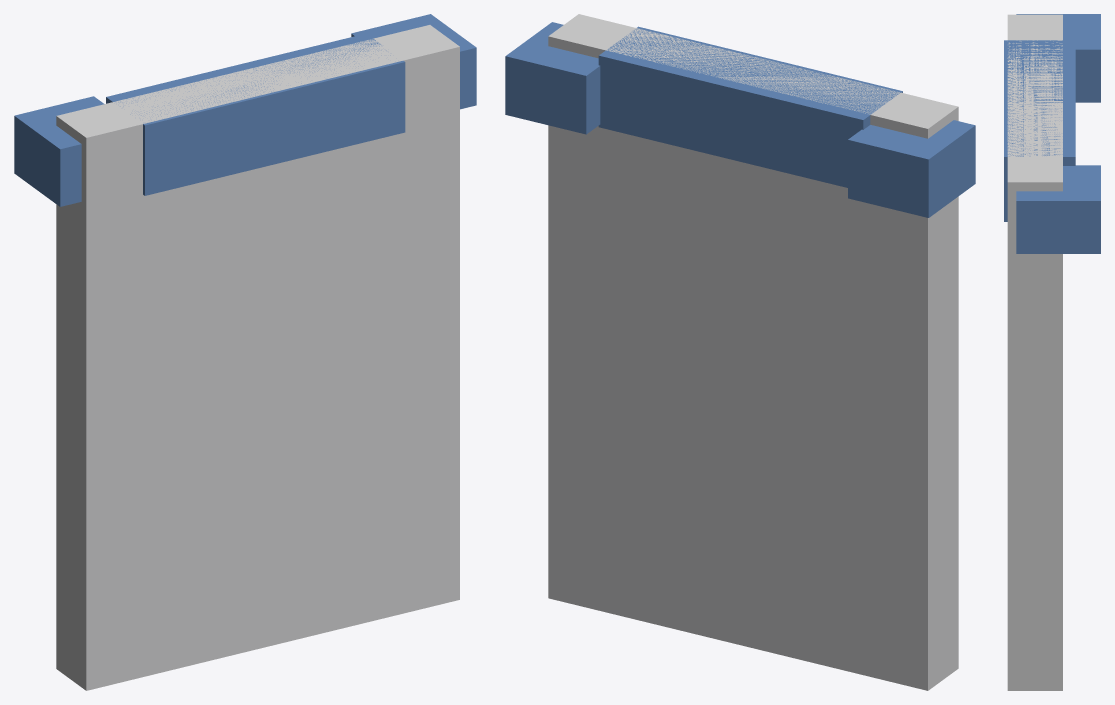
Rendered from capa_marinha.glb.
3 views of the same model, side by side, from view 1: azimuth 30°, elevation 25°; view 2: azimuth 150°, elevation 25°; view 3: azimuth 270°, elevation 25° (orthographic). The views are drawn at different scales.
Visible parts, largest first — view 1: CapaMarinha; view 2: CapaMarinha; view 3: CapaMarinha.
Part boxes in pixels (x1,y1,x2,y2): CapaMarinha: [14, 14, 476, 690]; CapaMarinha: [505, 14, 975, 690]; CapaMarinha: [1004, 14, 1100, 690].
Bounding box in the file's own units: 0.68 × 0.8625 × 0.1488.
